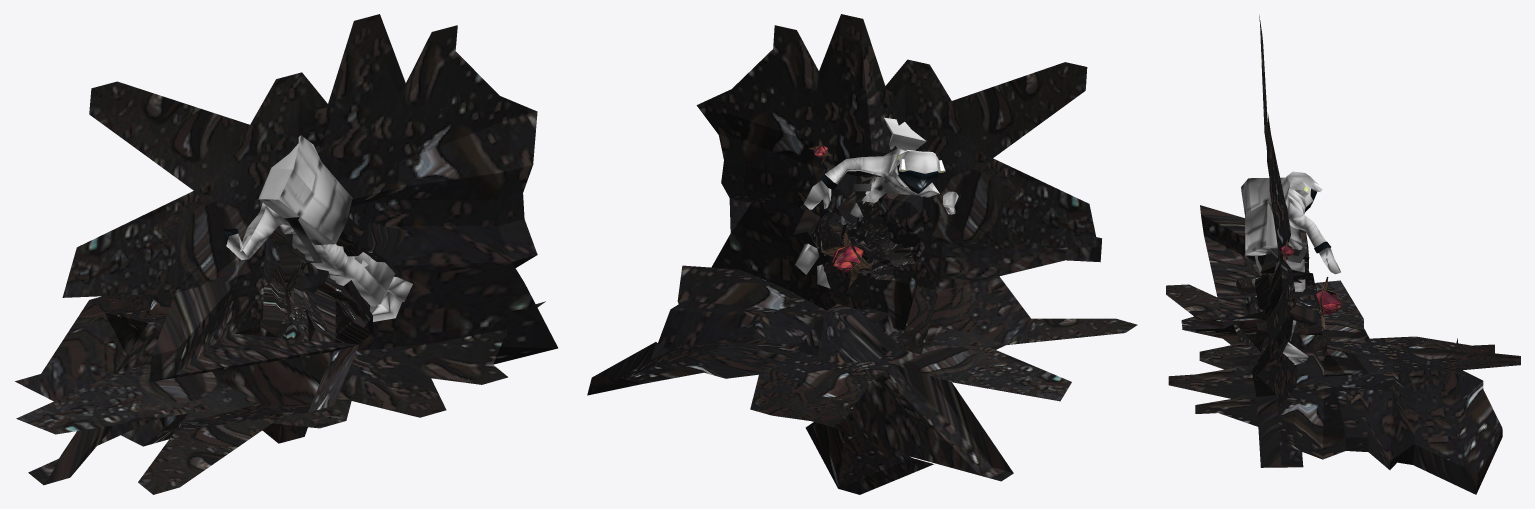
Rendered from GoopedAstronaut.fbx.
3 renders of one model, left to right at view 1: azimuth 30°, elevation 25°; view 2: azimuth 150°, elevation 25°; view 3: azimuth 270°, elevation 25°, orthographic. The views are drawn at different scales.
Parts seen in each view (by area): view 1: Grid.002, Grid.003, SpaceMan_Sketchfab.001, Grid.004; view 2: Grid.002, Grid.003, SpaceMan_Sketchfab.001, Grid.004; view 3: Grid.003, Grid.002, SpaceMan_Sketchfab.001, Grid.004.
Boxes of the visible parts, x1,y1,x2,y2 form: Grid.002: (62,14,557,443); Grid.003: (15,293,545,494); SpaceMan_Sketchfab.001: (223,135,412,321); Grid.004: (259,217,407,358); Grid.002: (696,14,1102,354); Grid.003: (587,265,1137,494); SpaceMan_Sketchfab.001: (795,117,961,288); Grid.004: (793,179,917,280); Grid.003: (1166,280,1520,494); Grid.002: (1181,15,1330,467); SpaceMan_Sketchfab.001: (1241,171,1341,364); Grid.004: (1231,248,1322,354).
Bounding box in the file's own units: 25.12 × 23.28 × 20.68.
